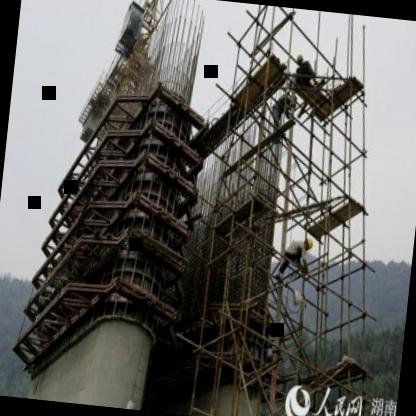helmet: (298, 231, 316, 254)
